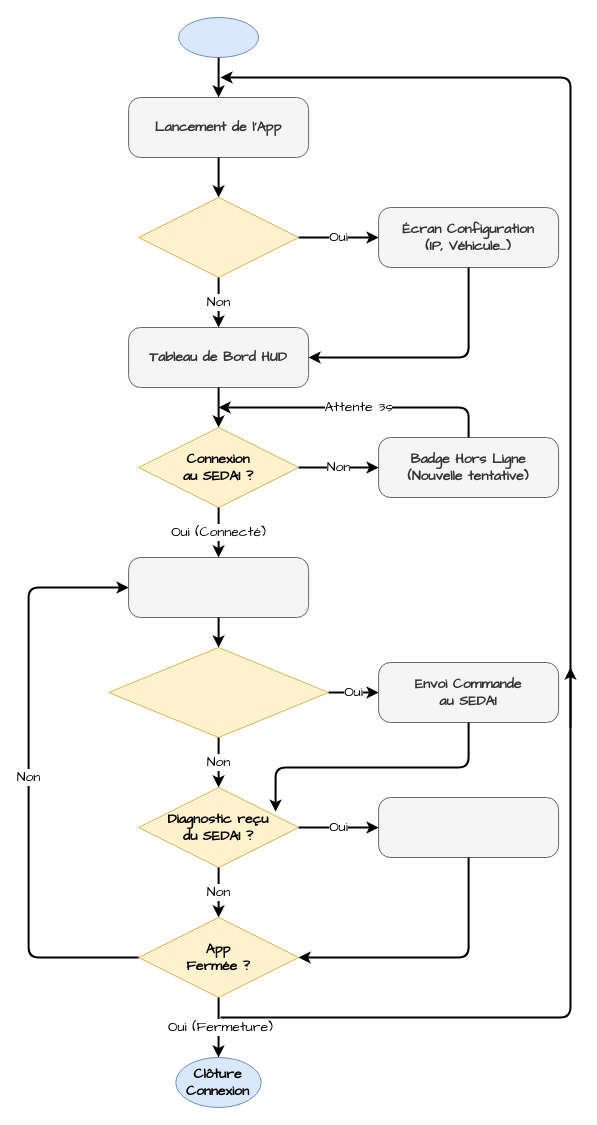
This 597x1125 diagram has some shape labels left out. The shapes that lost their labels are listed below. From the top down, each one's centre as x and y in pixels, then its label:
At (218,37): "DÉBUT".
At (218,237): "Premier Lancement ?".
At (218,587): "Réception Data Temps Réel (Jauges actives)".
At (218,692): "Action Conducteur ? (Diagnostic IA / Micro PTT)".
At (468,827): "Ouvrir Écran Analyse IA & Sauvegarder Historique".
